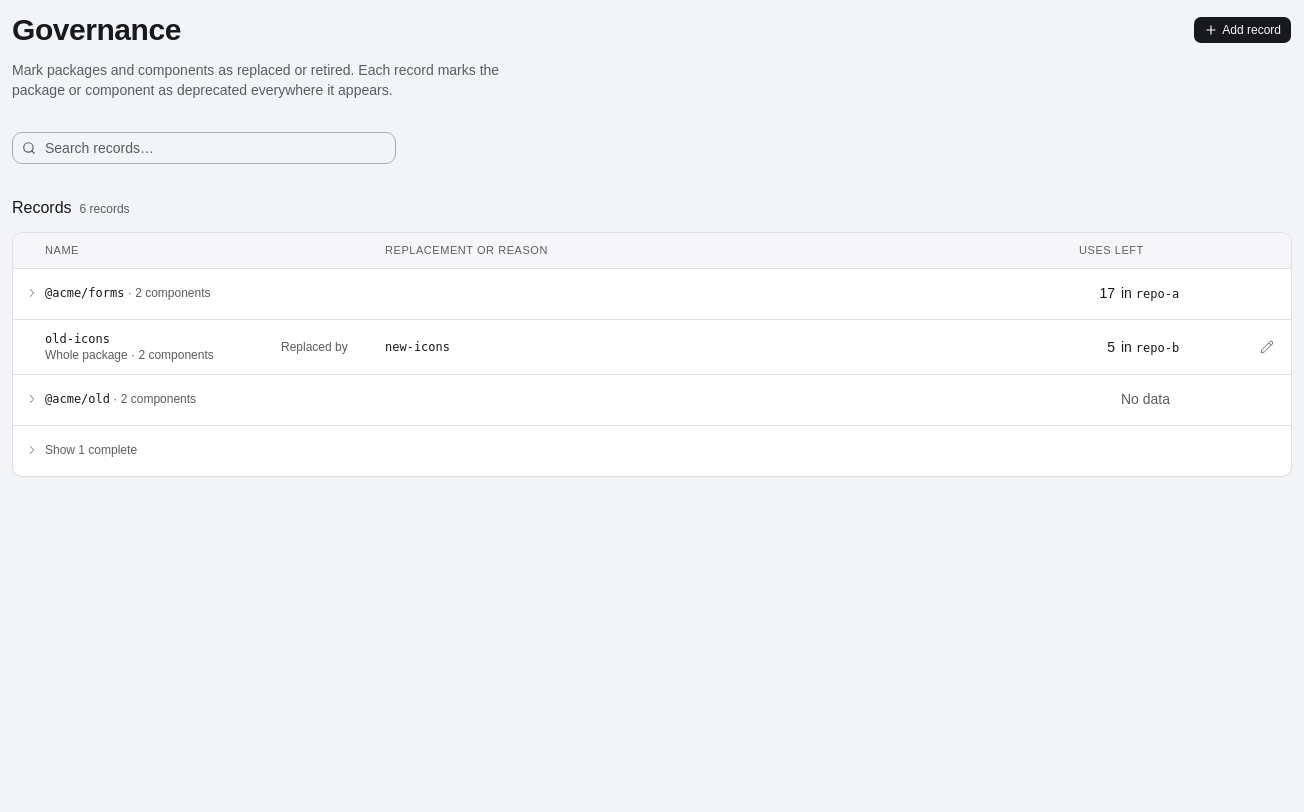
Test case: GovernanceManager › shows no data for a record saved since the last rebuild, and for its package's total, keeping the other counts
Click the button named "Records in ": (32, 293) top-left (20, 281), bottom-right (44, 305)
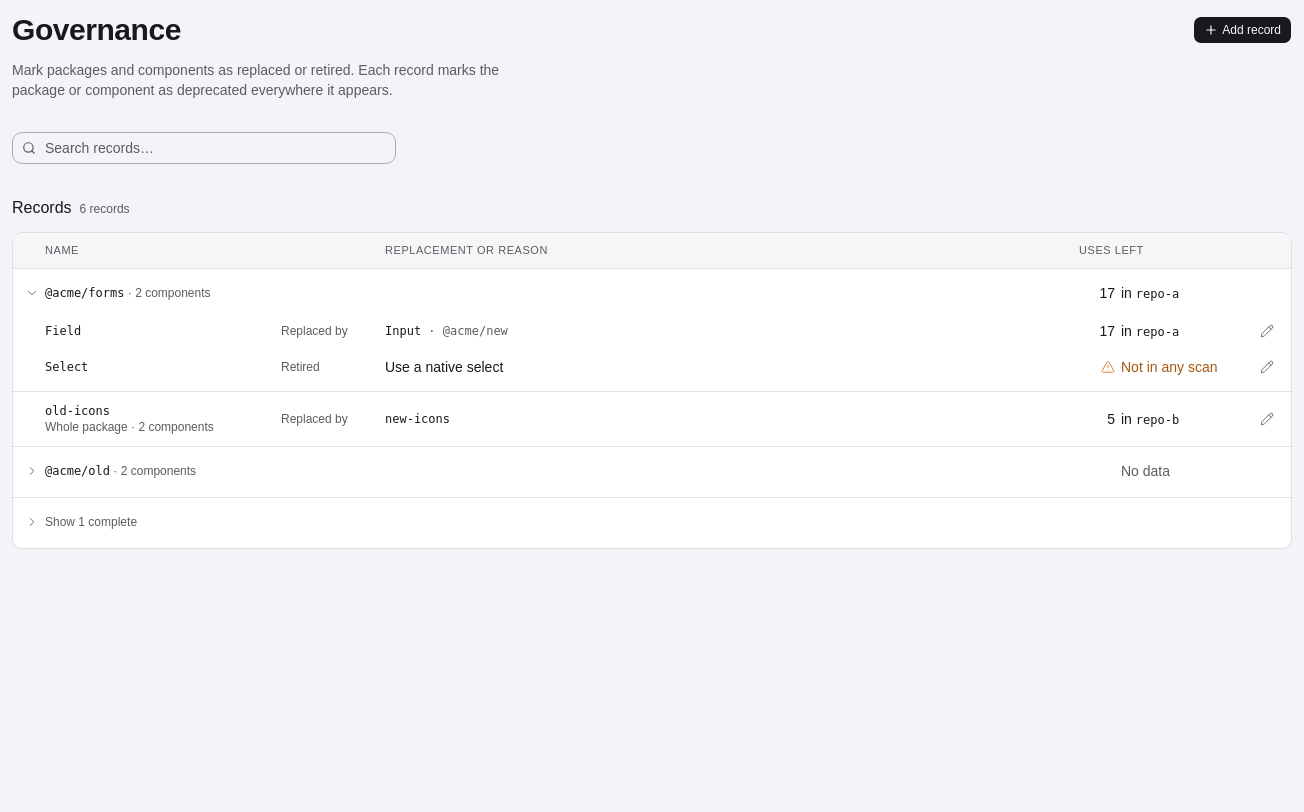
Click the button named "Records in ": (32, 471) top-left (20, 459), bottom-right (44, 483)
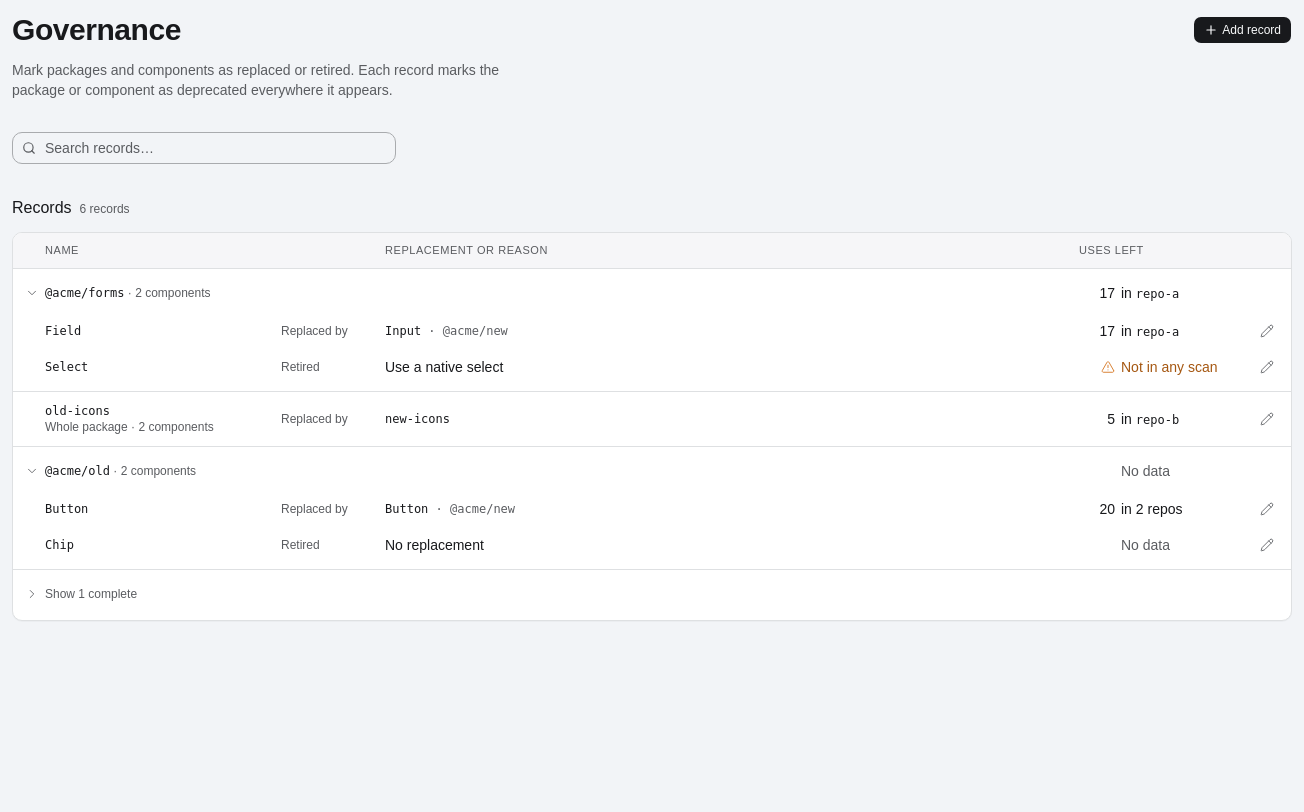
Expected: the text "No data" in the row of "@acme/old" is shown, top-left (1121, 463), bottom-right (1170, 479)
Result: the link named "20 left in 2 repos , trend for Button" is shown at top-left (1079, 499), bottom-right (1182, 519)
